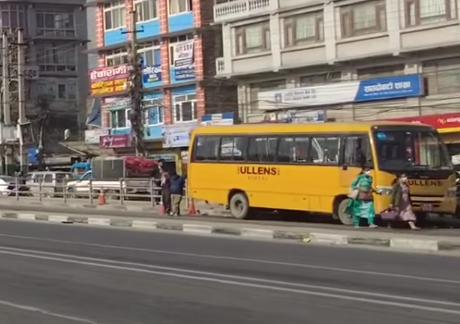school_bus: (186, 119, 460, 233)
